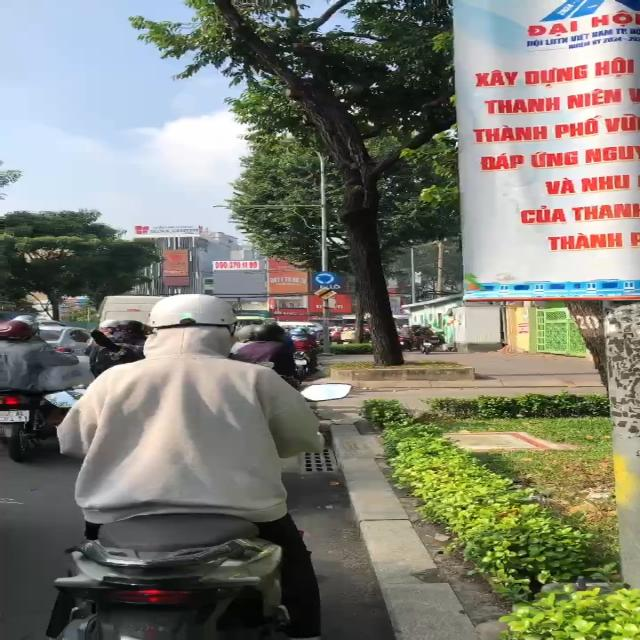Bien bao noi giao nhau chay theo vong xuyen: (312, 268, 341, 287)
